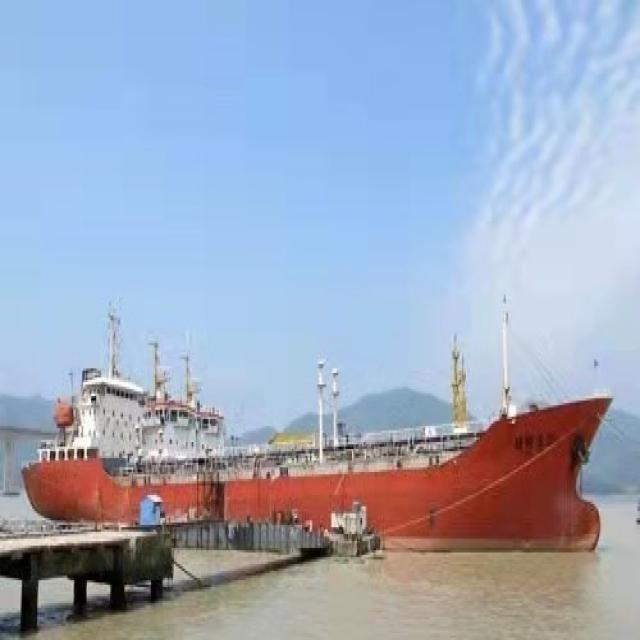cargoship: (39, 316, 604, 591)
